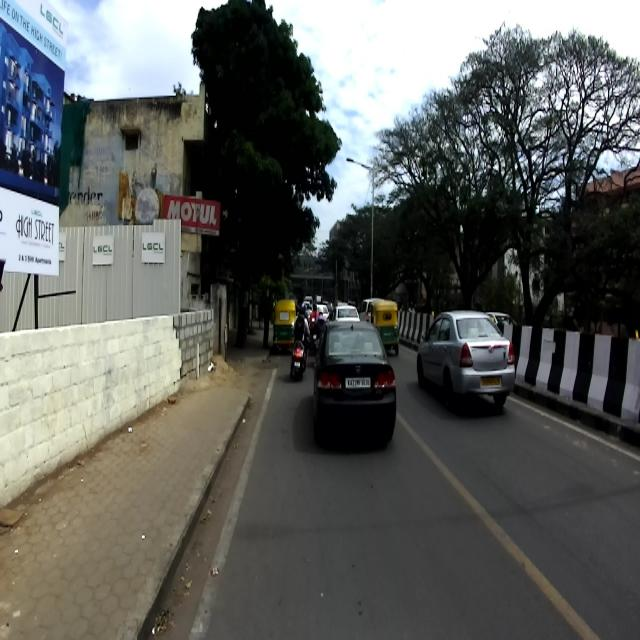car: (311, 319, 395, 448), (416, 309, 515, 409)
scooter: (290, 325, 307, 381)
